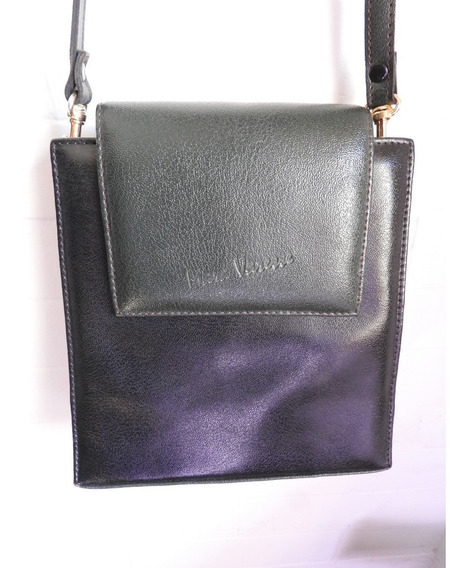cartera: (49, 2, 412, 489)
